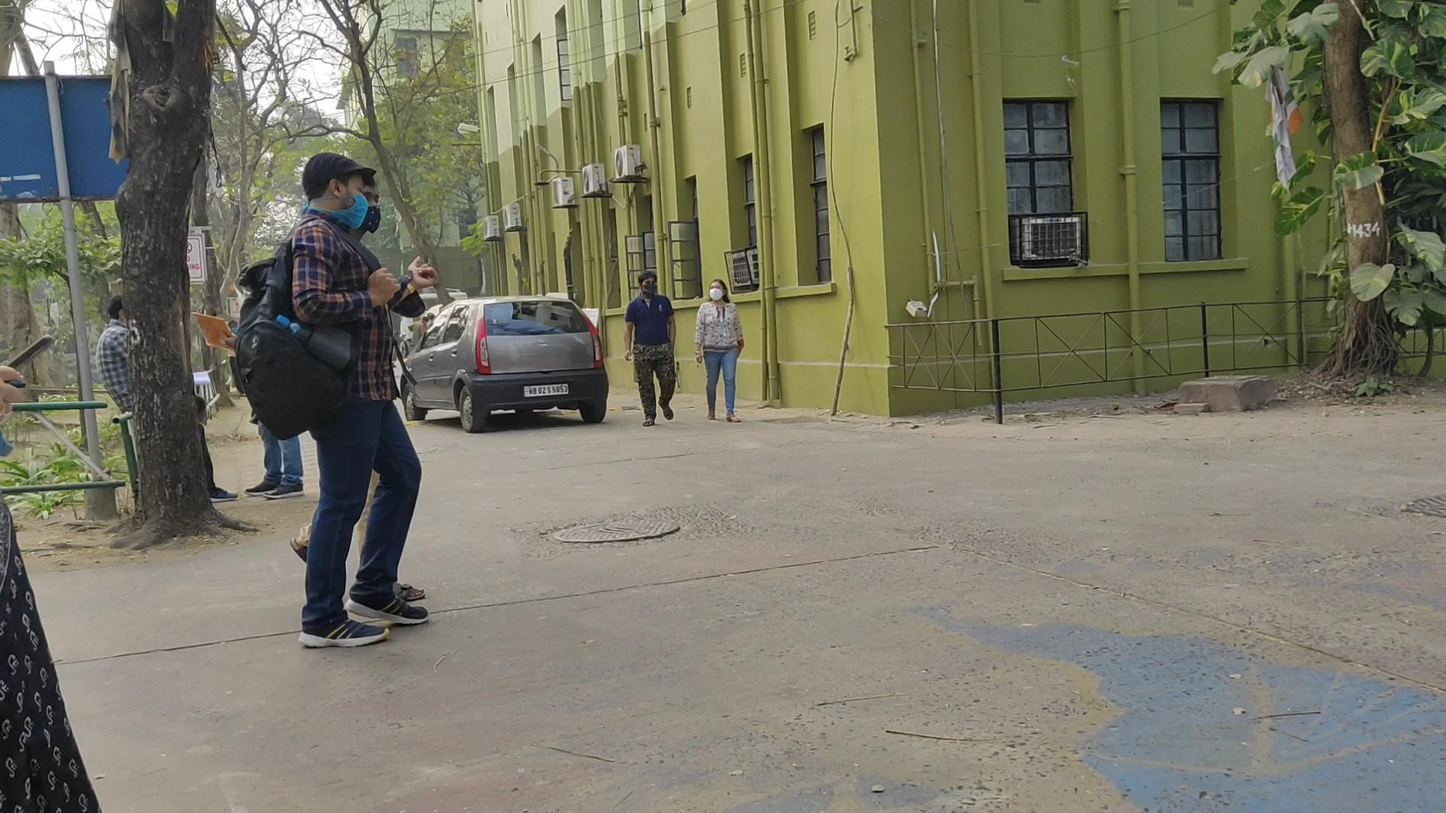car: (400, 294, 609, 433)
